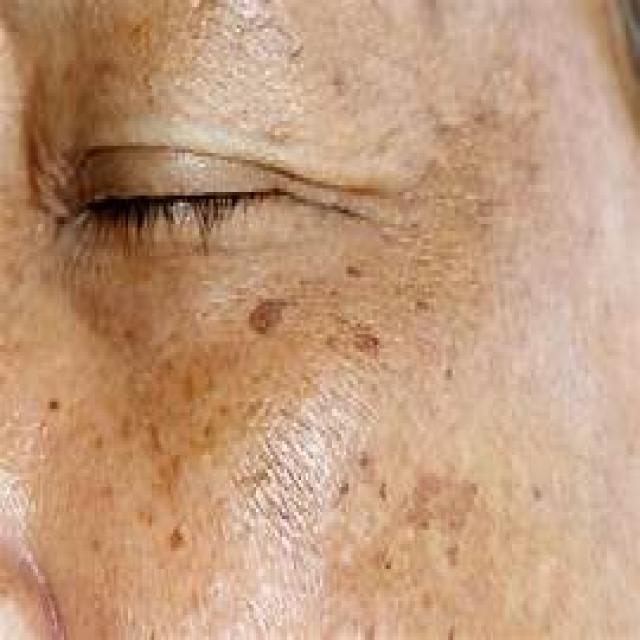pigmentation: (124, 314, 306, 491)
